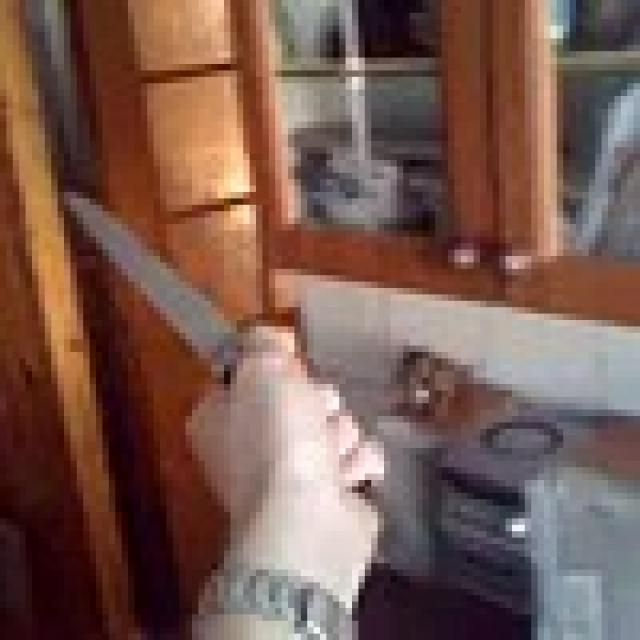Knife: (58, 186, 262, 397)
